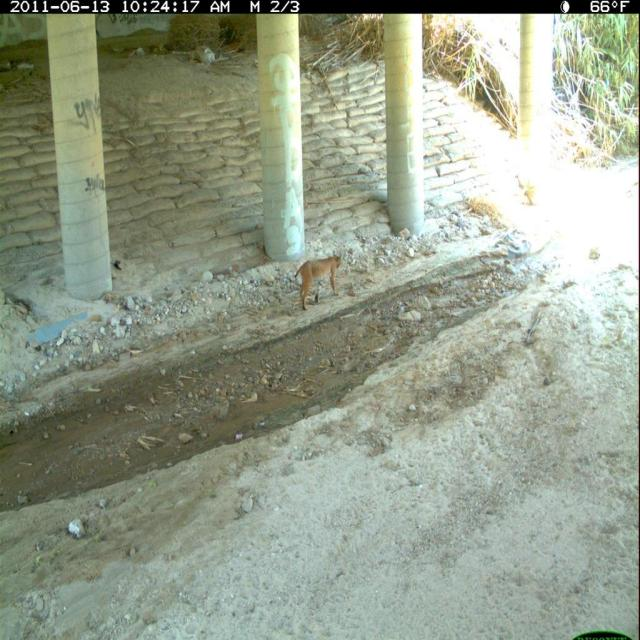bobcat: (293, 246, 347, 314)
